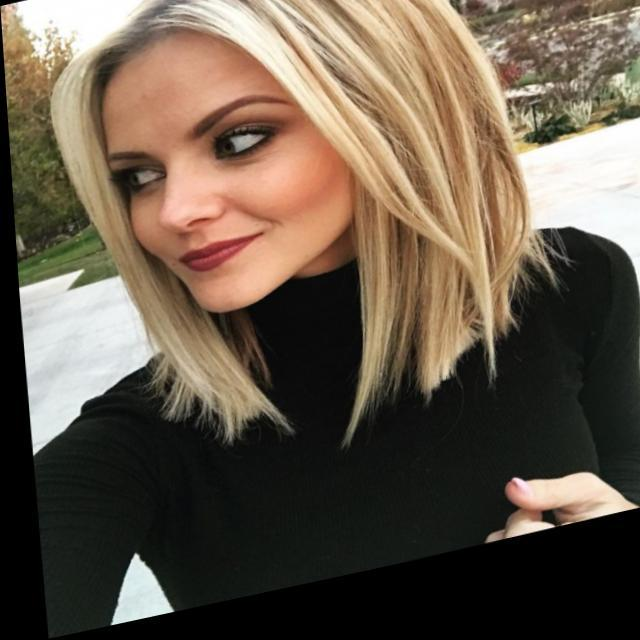Nonhelmet: (47, 0, 474, 343)
